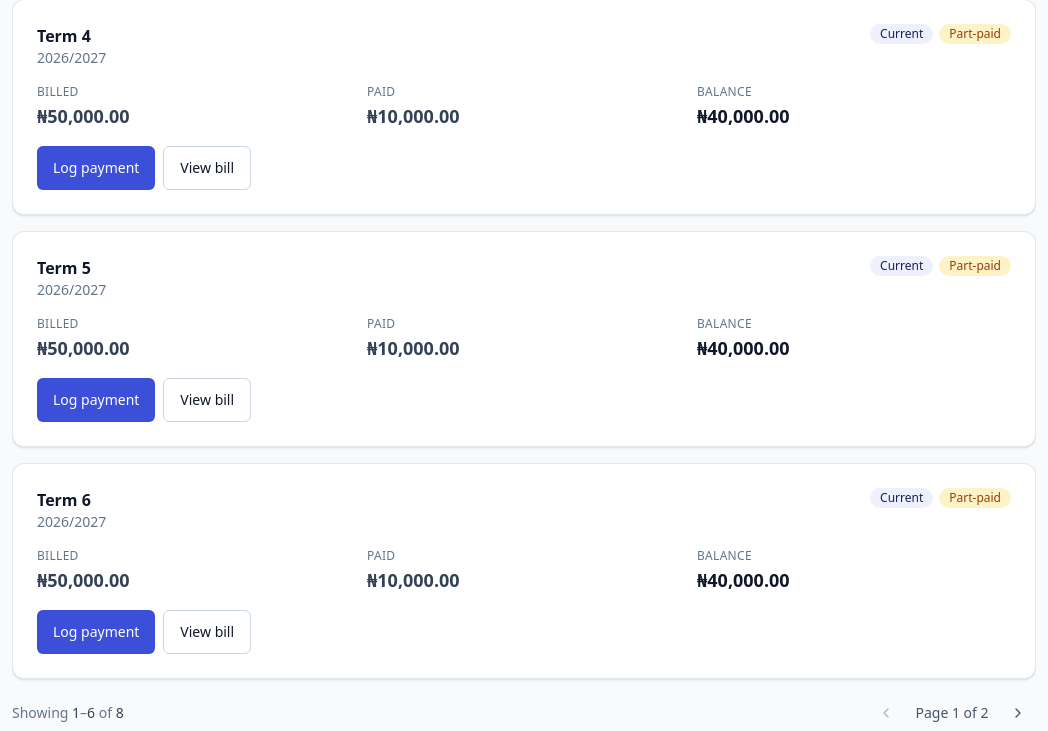
Test: WardBillsPage › pages the term cards six at a time
(page scrolled)
Expected: the element named "Term 6, 2026/2027" is shown, left=12, top=463, right=1036, bottom=679
Expected: the text "Page 1 of 2" is shown, left=916, top=703, right=989, bottom=722
Click the button named "Next page": (1018, 713) left=1000, top=695, right=1036, bottom=730
(page scrolled)
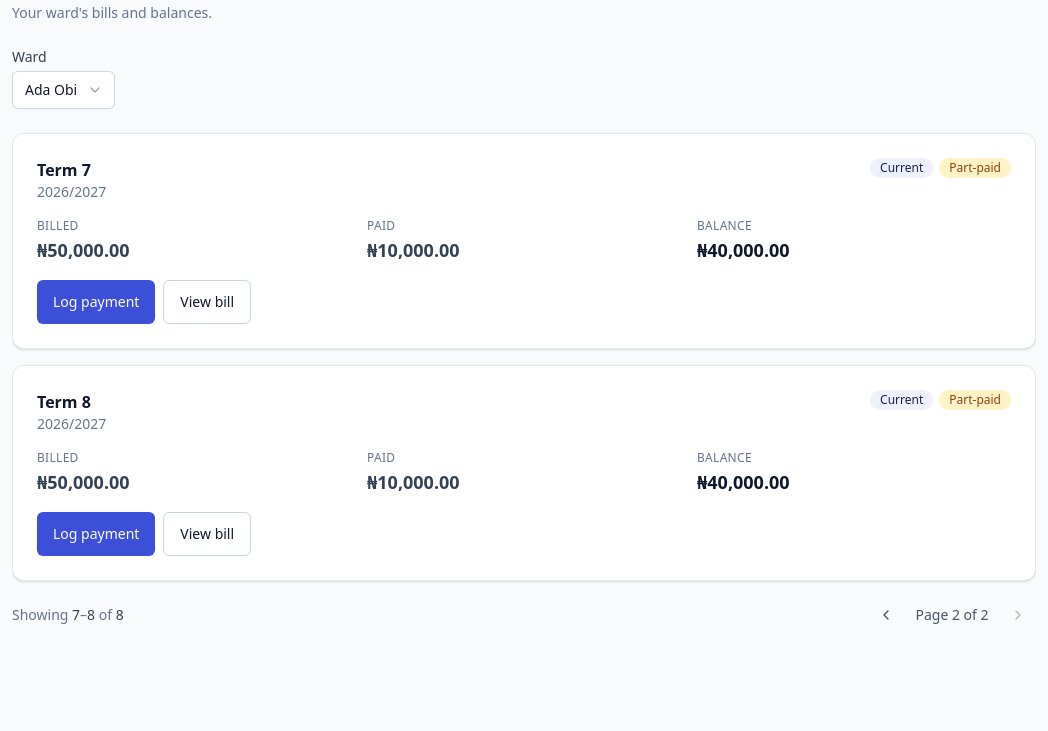
Expected: the element named "Term 7, 2026/2027" is shown, left=12, top=133, right=1036, bottom=349
Expected: the element named "Term 8, 2026/2027" is shown, left=12, top=365, right=1036, bottom=581
